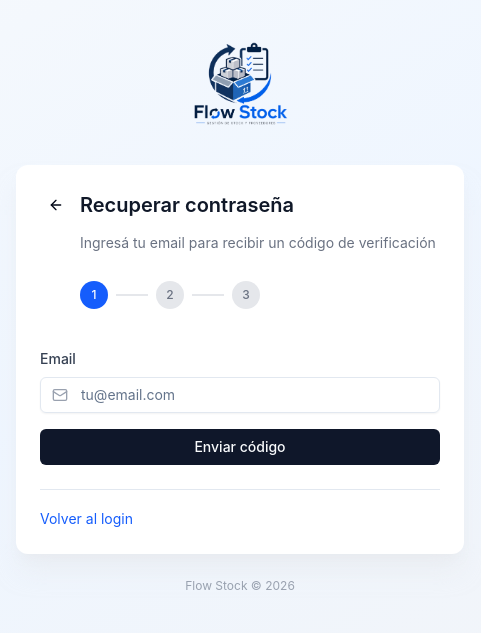
Test: ResetPasswordPage › Paso 2 - Código › valida código inválido
The image size is (481, 633).
Type "test@test.com" into the field with placeholder "tu@email.com" at (240, 394), box [40, 376, 440, 412]
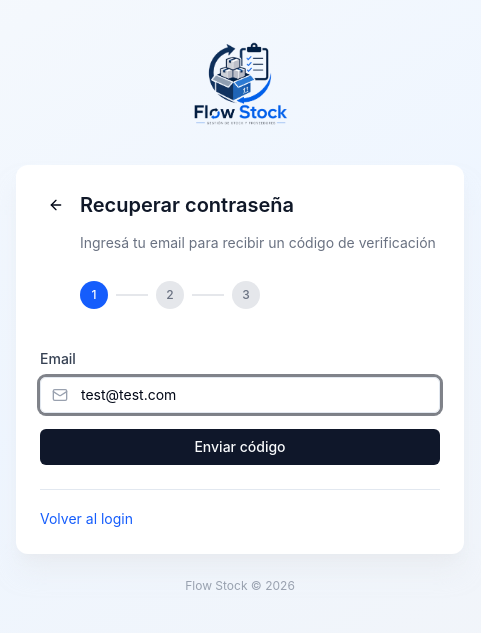
Click the button "Enviar código" at (240, 446), box [40, 428, 440, 464]
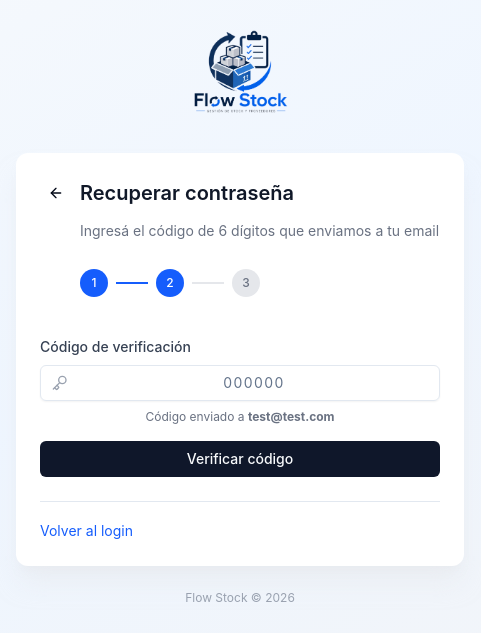
expect the field with placeholder "000000" is shown: met
Type "123" into the field with placeholder "000000" at (240, 382), box [40, 364, 440, 400]
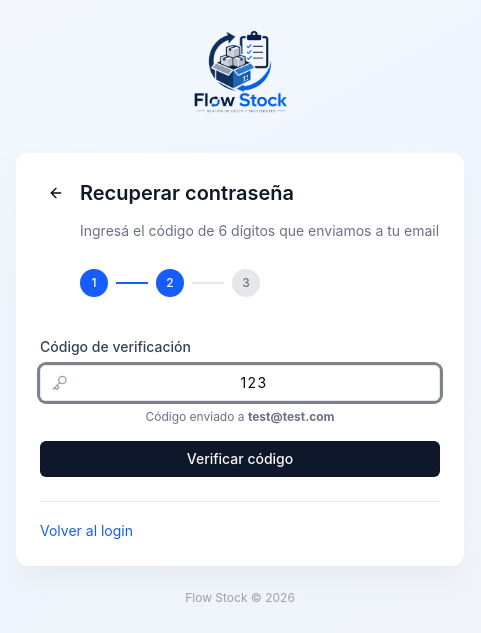
Click the button "Verificar código" at (240, 458), box [40, 440, 440, 476]
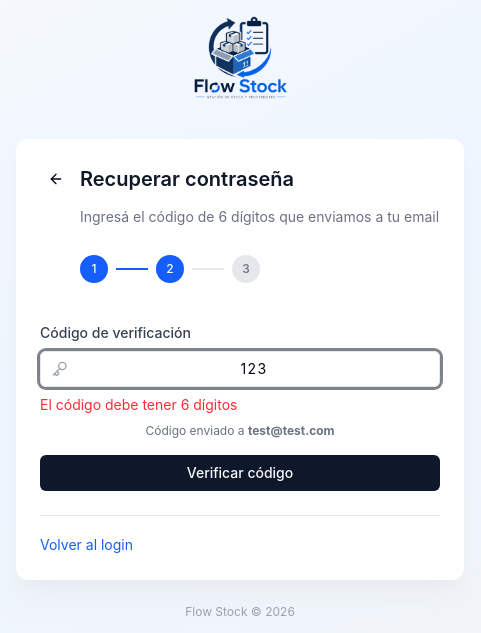
expect the text "El código debe tener 6 dígitos" is shown: met, box [40, 396, 238, 412]
